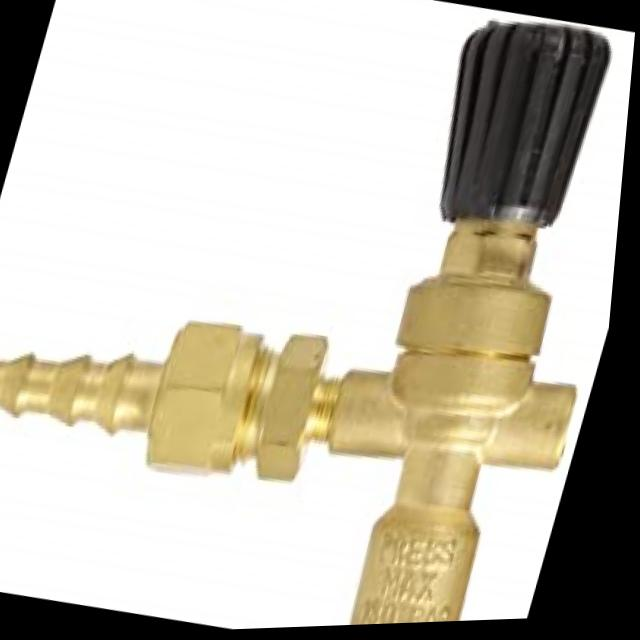ocr: (362, 530, 493, 628)
